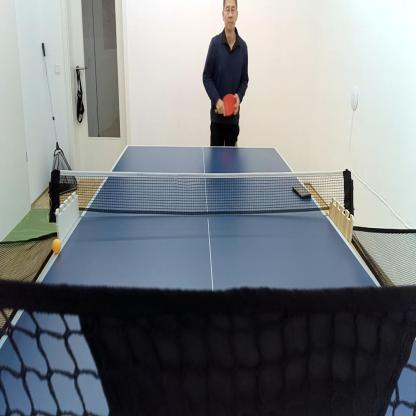Ball: (52, 238, 61, 254)
